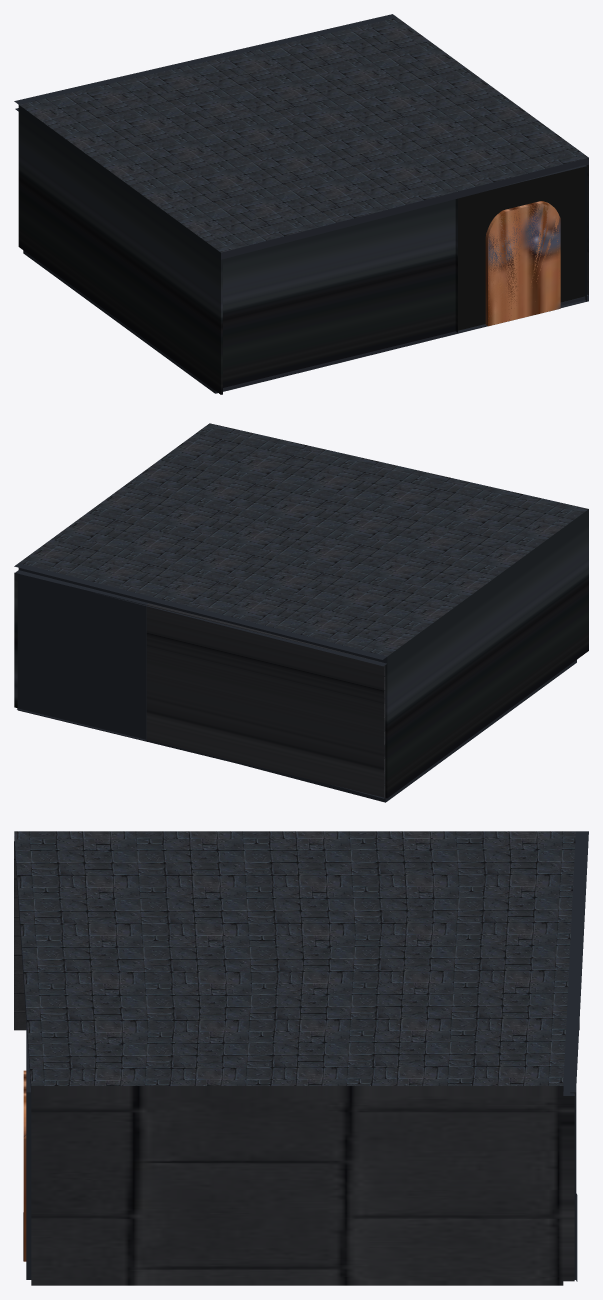
The model's file is sala_2_final.fbx.
3 renders of one model, top to bottom at view 1: azimuth 30°, elevation 25°; view 2: azimuth 150°, elevation 25°; view 3: azimuth 270°, elevation 25°, orthographic. The views are drawn at different scales.
Parts seen in each view (by area): view 1: paredes, puerta sala.001; view 2: paredes; view 3: paredes, puerta sala.001.
Boxes of the visible parts, box(x1,y1,x2,y2) form: paredes: box(14, 14, 588, 394); puerta sala.001: box(485, 201, 560, 326); paredes: box(14, 423, 588, 802); paredes: box(14, 831, 588, 1285); puerta sala.001: box(23, 1070, 26, 1261).
Size of the model in its own units: 579 by 220 by 555.
